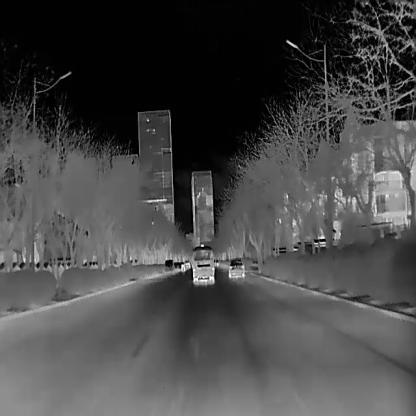car: (190, 243, 214, 283), (227, 257, 244, 278), (163, 259, 174, 273), (174, 261, 180, 271), (180, 260, 185, 271), (185, 259, 189, 270)
